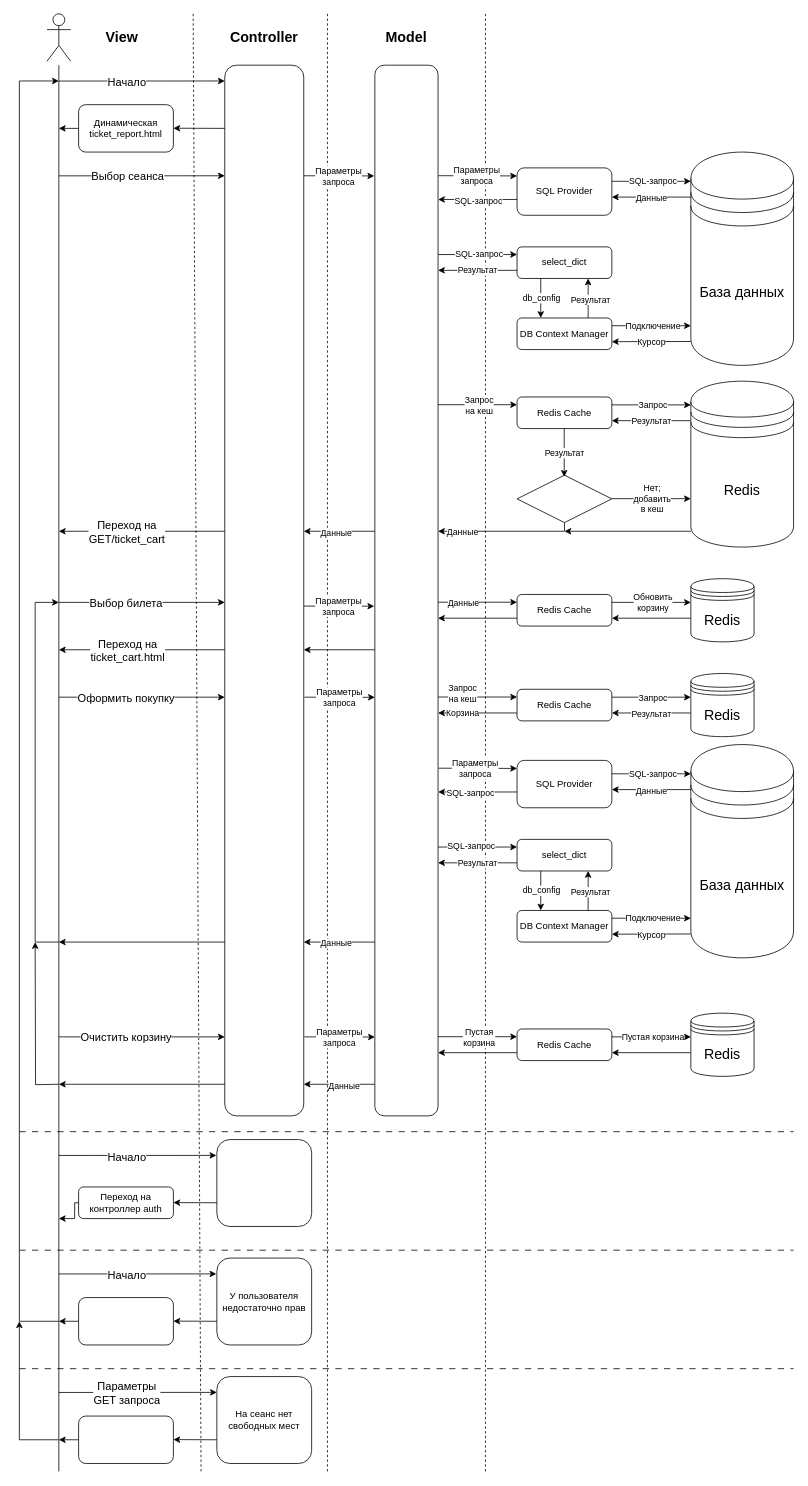
The diagram is 808 pixels wide and 1486 high, and some of its shapes have lost their labels. The centre of each missing label's shape, as x and y in pixels:
"model_route" goes at pixel 406 590.
"route" goes at pixel 264 590.
"Есть данные?" goes at pixel 564 498.
"Пользователь не авторизован" goes at pixel 264 1182.
"Сообщение об ошибке" goes at pixel 125 1439.
"Сообщение об ошибке в статической error.html" goes at pixel 125 1321.
